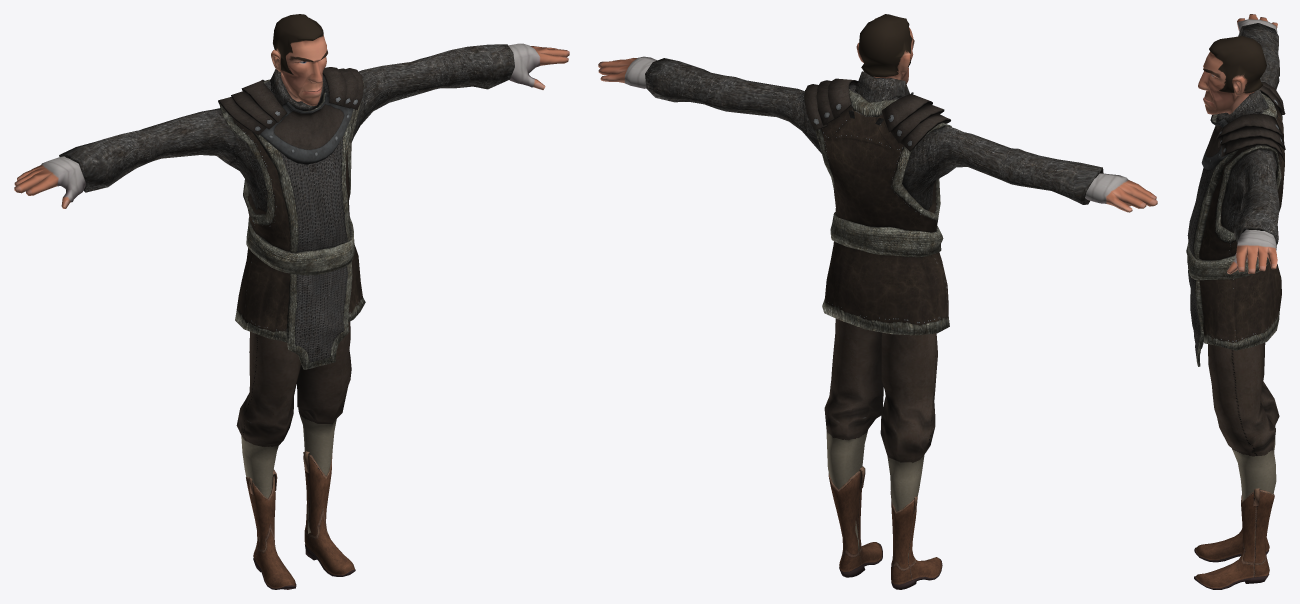
File: Enemy.obj
3 renders of one model, left to right at view 1: azimuth 30°, elevation 25°; view 2: azimuth 150°, elevation 25°; view 3: azimuth 270°, elevation 25°, orthographic. The views are drawn at different scales.
Parts seen in each view (by area): view 1: Tops, Bottoms, Body, Shoes; view 2: Tops, Bottoms, Body, Shoes; view 3: Tops, Bottoms, Body, Shoes.
Boxes of the visible parts, x1,y1,x2,y2 form: Tops: (59,44,514,369); Bottoms: (236,321,351,541); Body: (14,14,569,208); Shoes: (246,451,355,589); Tops: (645,58,1103,335); Bottoms: (824,318,937,563); Body: (598,14,1157,212); Shoes: (828,466,942,589); Tops: (1186,23,1285,366); Bottoms: (1208,342,1279,500); Body: (1198,14,1277,274); Shoes: (1194,488,1274,589).
Bounding box in the file's own units: 185 × 177 × 29.97.
4 materials, 4 textured.
